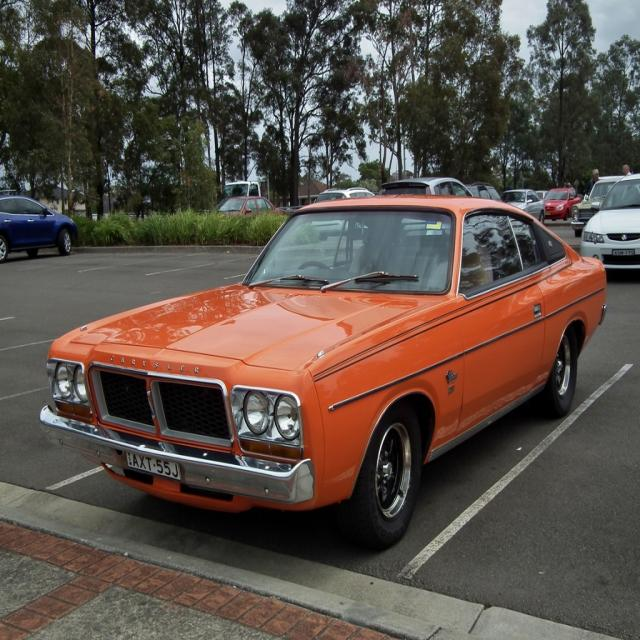car: (41, 191, 603, 545), (580, 168, 639, 279), (575, 162, 633, 230), (306, 184, 371, 232), (542, 186, 581, 218), (509, 186, 542, 218)
